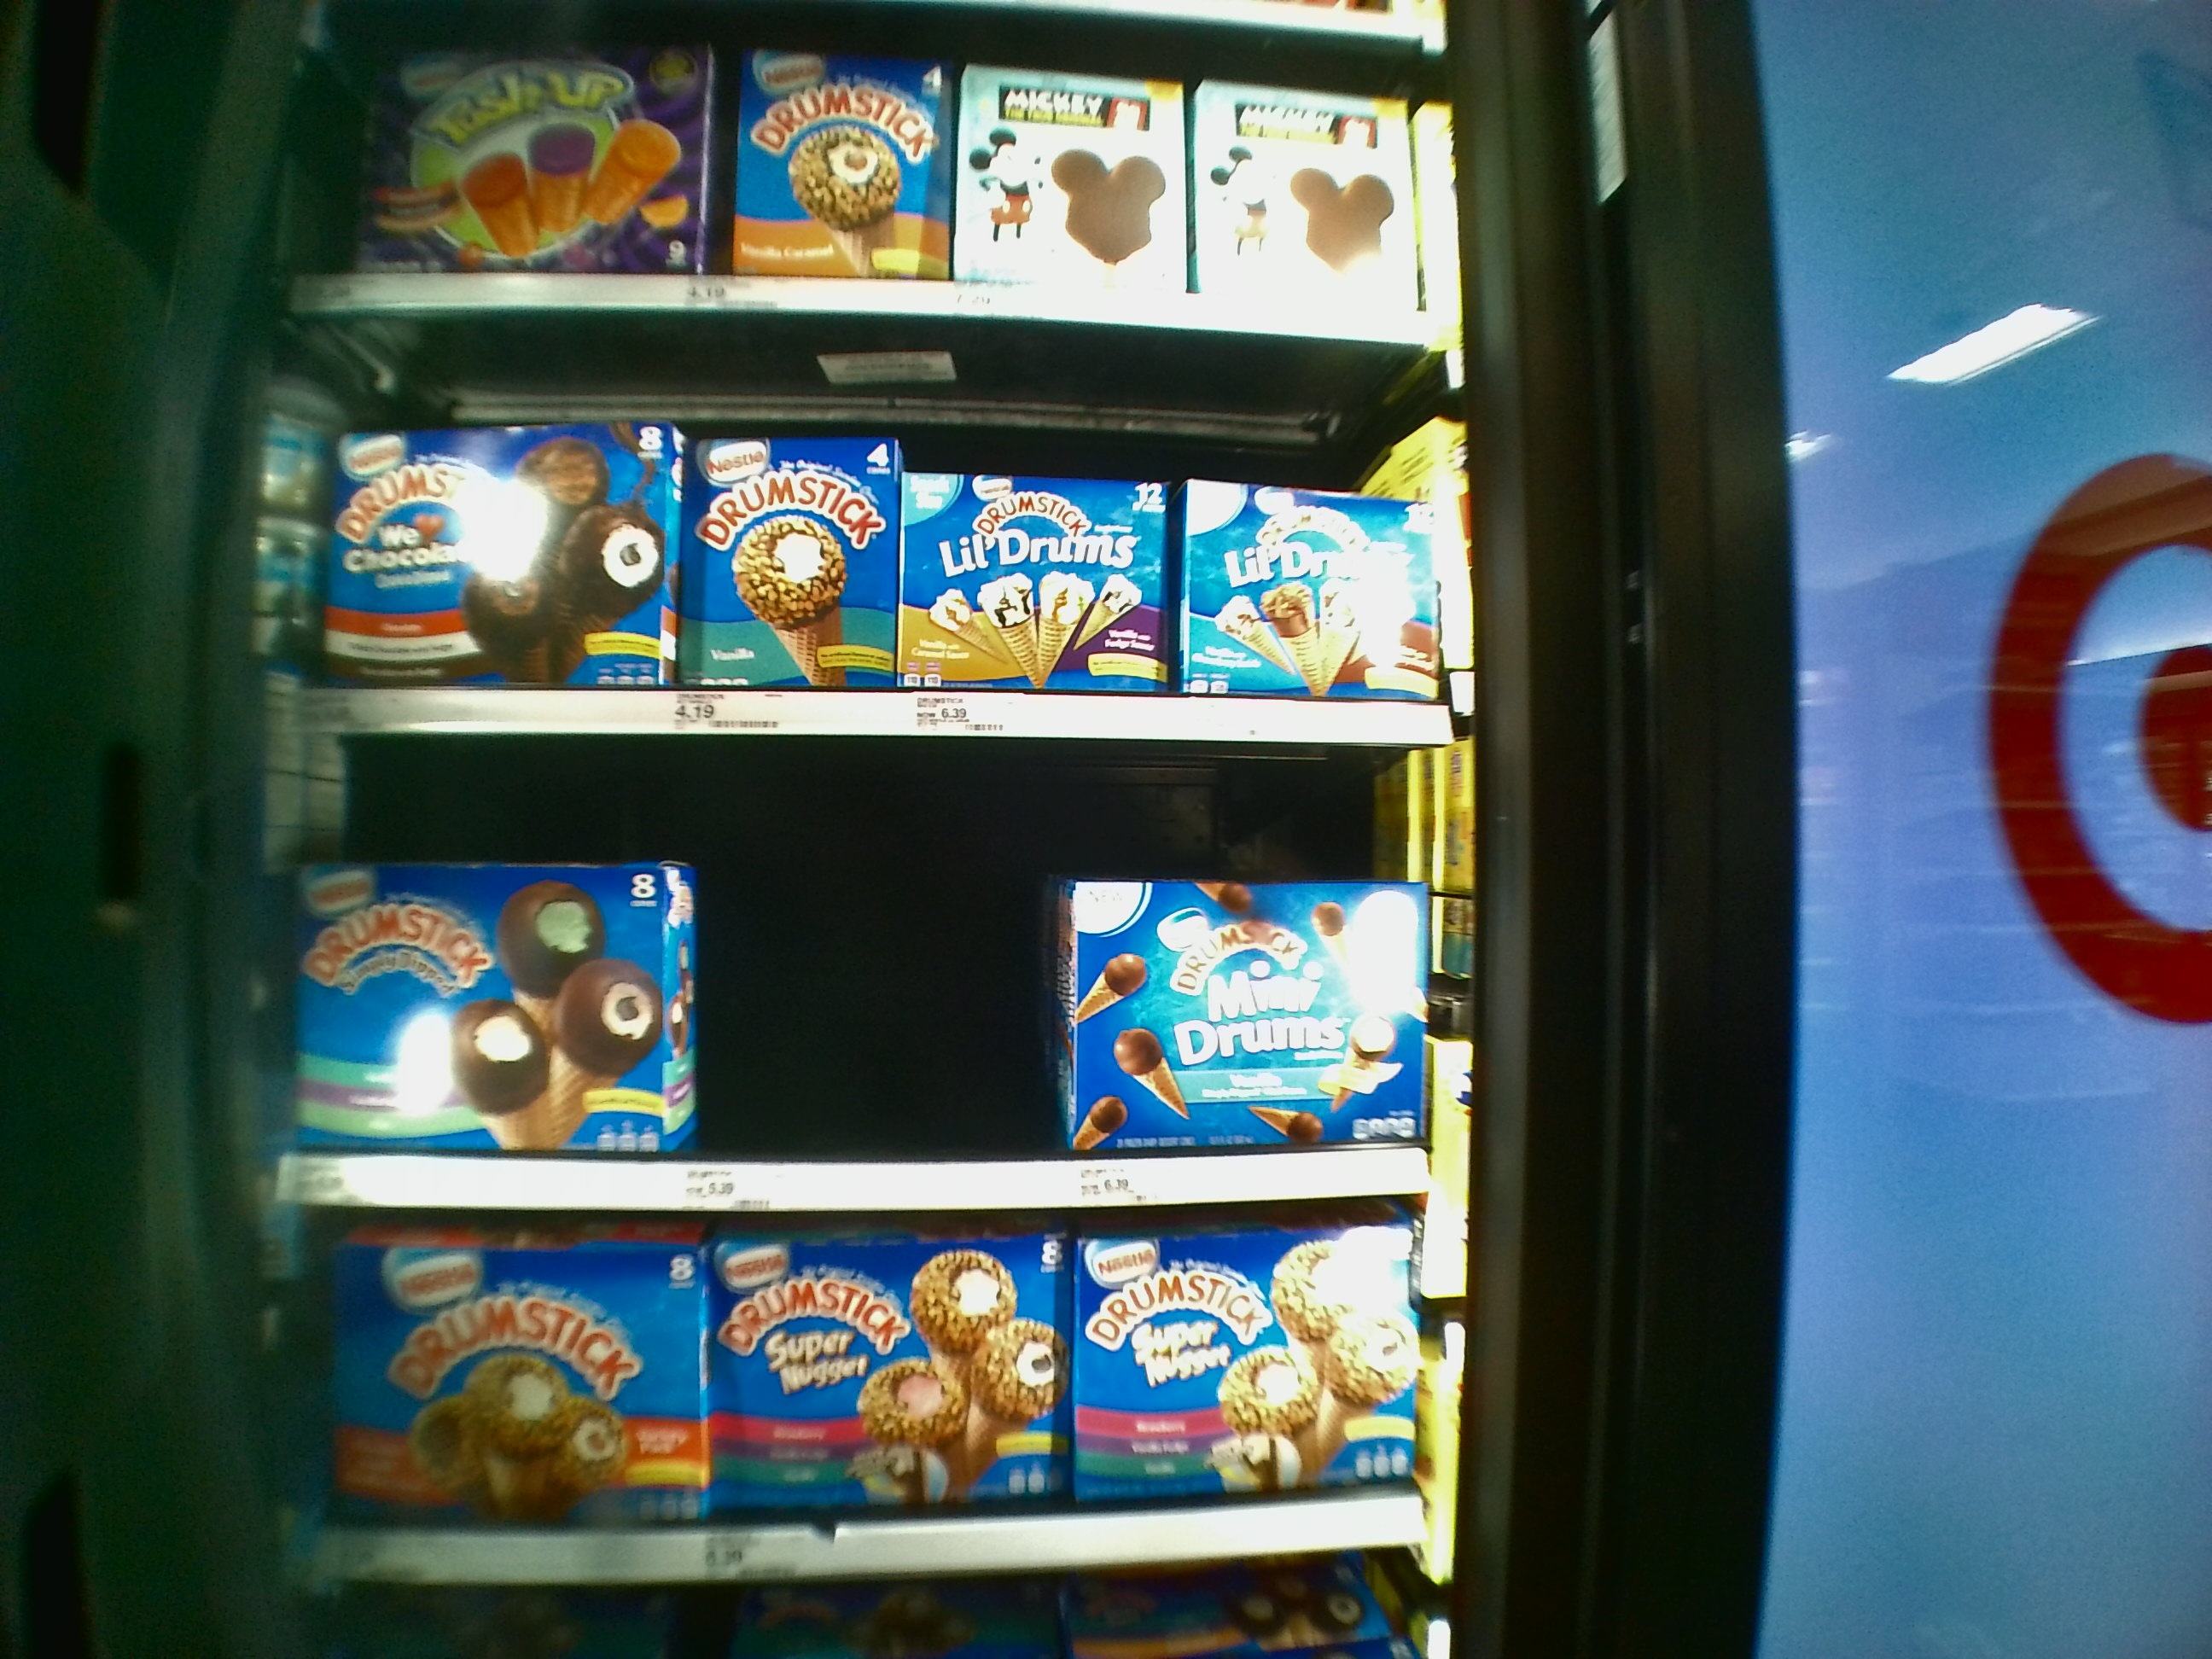shelf: (272, 737, 1442, 1199), (296, 324, 1463, 742), (289, 1208, 1435, 1589), (301, 7, 1446, 329)
